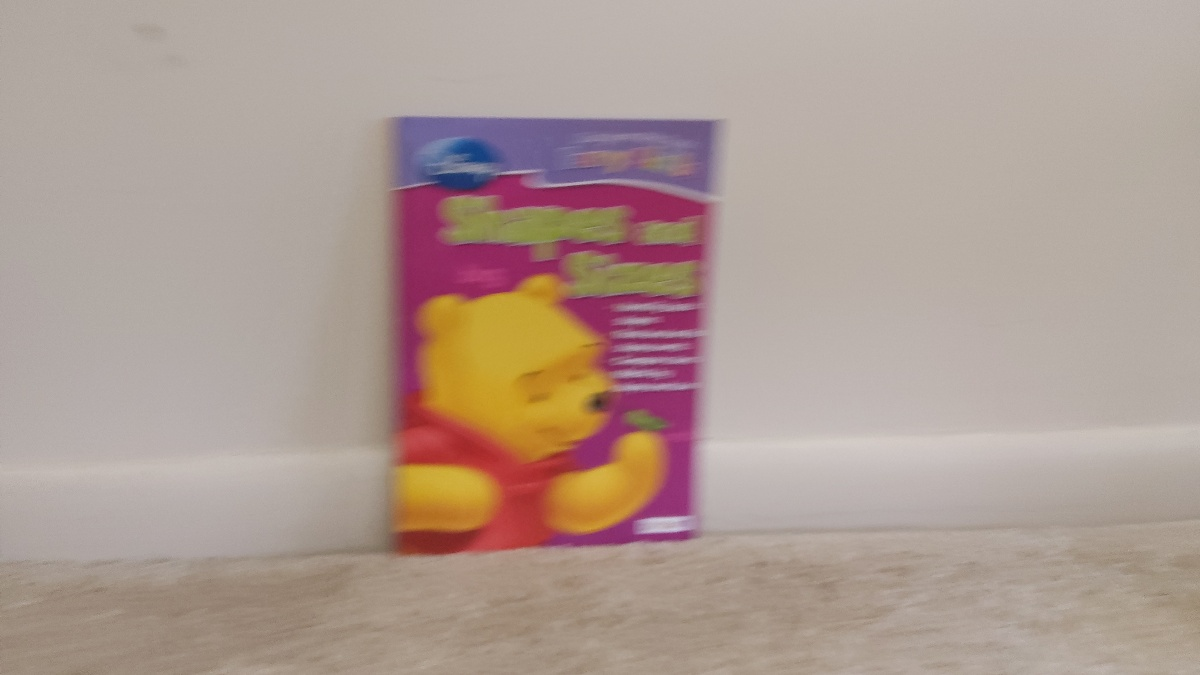book: (392, 118, 692, 541)
